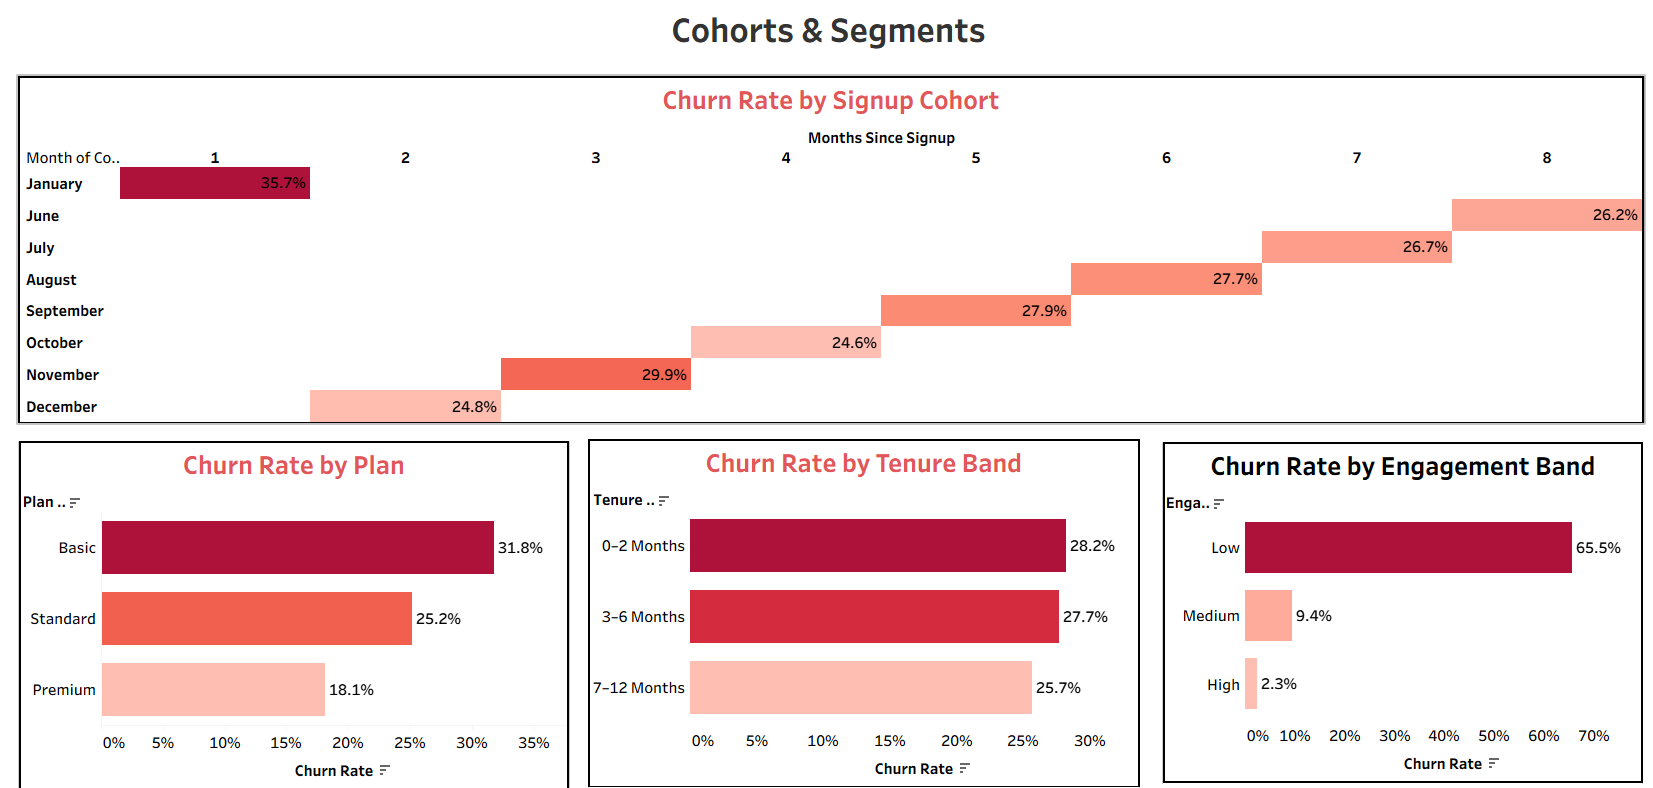

Layout of this report page (visuals, bound fields, positions):
{"tool":"tableau","page":{"name":"Cohorts & Segments","canvas":[1000,1000],"units":"permille","ordinal":0},"visuals":[{"type":"title","box":[4.8,10,990.3,66.2]},{"type":"worksheet","title":"Cohort Churn View","mark":"Square","rows":["Calculation_-3343078253573443580"],"cols":["Calculation_-3343078253555896315"],"box":[10.9,101.9,981.2,434.3]},{"type":"worksheet","title":"Churn by Tenure","mark":"Automatic","rows":["Calculation_-3343078253532291066"],"cols":["Calculation_-3470586418499944448"],"box":[354.8,555,332.9,435.7]},{"type":"worksheet","title":"Churn by Plan","mark":"Bar","rows":["plan_name"],"cols":["Calculation_-3470586418499944448"],"box":[11.5,557.6,331.7,435.7]},{"type":"worksheet","title":"Churn by Engagement","mark":"Automatic","rows":["Calculation_-3343078253529890809"],"cols":["Calculation_-3470586418499944448"],"box":[701.6,559,289.9,426.3]}]}

Visuals, with their boxes on the dashboard's canvas, which has no fixed pixel size, in thousandths of its width and height (x1, y1, x2, y2). These are canvas units, not pixel positions in the 1653x788 screenshot, which may show the page scaled, cropped or inside an application window:
title: bbox(5, 10, 995, 76)
"Cohort Churn View" worksheet (Square marks): bbox(11, 102, 992, 536)
"Churn by Tenure" worksheet: bbox(355, 555, 688, 991)
"Churn by Plan" worksheet (Bar marks): bbox(12, 558, 343, 993)
"Churn by Engagement" worksheet: bbox(702, 559, 992, 985)
